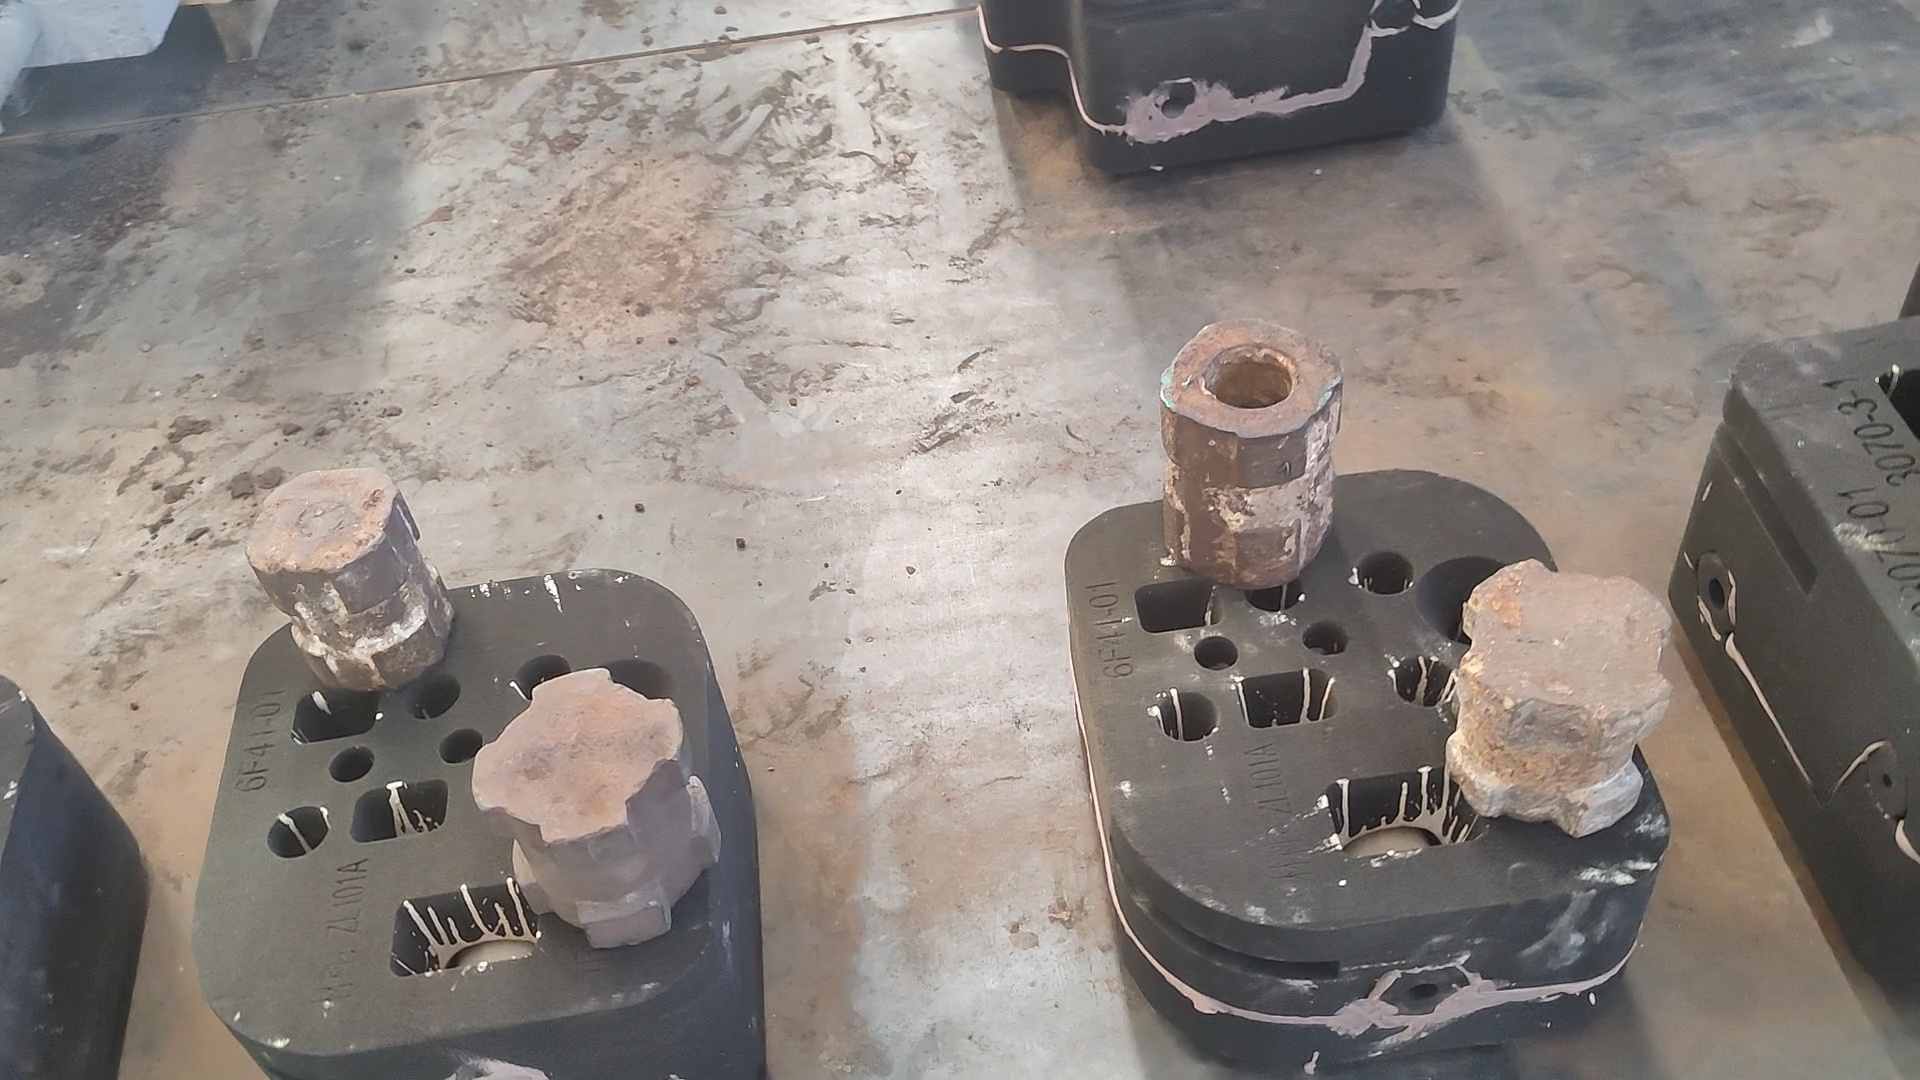pouring hole: (1418, 555, 1520, 646), (568, 658, 678, 731)
